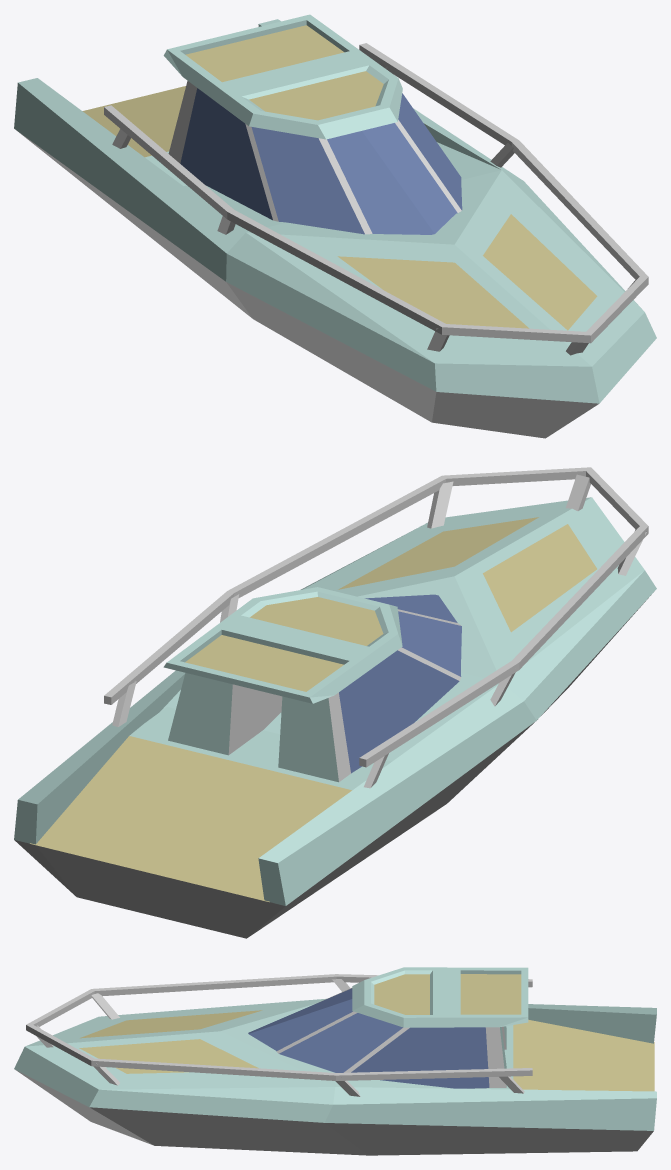
Rendered from transport_water_009.fbx.
3 views of the same model, one above another, from view 1: azimuth 30°, elevation 25°; view 2: azimuth 150°, elevation 25°; view 3: azimuth 270°, elevation 25° (orthographic). The views are drawn at different scales.
Parts seen in each view (by area): view 1: transport_water_009; view 2: transport_water_009; view 3: transport_water_009.
Boxes of the visible parts, <box> form: transport_water_009: <box>14,14,656,438</box>; transport_water_009: <box>14,467,656,938</box>; transport_water_009: <box>14,967,656,1155</box>.
Size of the model in its own units: 476 by 266 by 1198.
